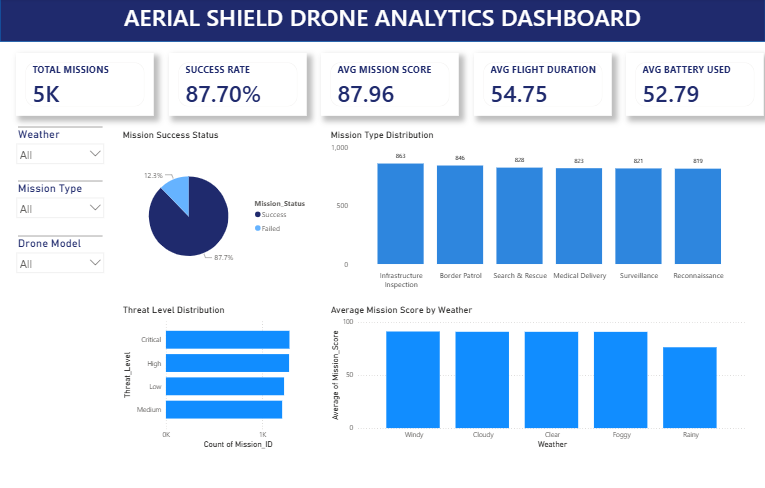

This screenshot's page, from the dashboard's own definition file:
{"tool":"powerbi","page":{"name":"Executive Dashboard","canvas":[1400,900],"ordinal":0},"visuals":[{"type":"pieChart","title":"Mission Success Status","fields":{"Category":["Aerial_Shield_Drone_Data.Mission_Status"],"Y":["CountNonNull(Aerial_Shield_Drone_Data.Mission_ID)"]},"box":[220,240,360,300],"z":0},{"type":"clusteredColumnChart","title":"Mission Type Distribution","fields":{"Category":["Aerial_Shield_Drone_Data.Mission_Type"],"Y":["CountNonNull(Aerial_Shield_Drone_Data.Mission_ID)"]},"box":[600,240,770,300],"z":1000},{"type":"clusteredBarChart","title":"Threat Level Distribution","fields":{"Category":["Aerial_Shield_Drone_Data.Threat_Level"],"Y":["CountNonNull(Aerial_Shield_Drone_Data.Mission_ID)"]},"box":[220,560,360,270],"z":2000},{"type":"clusteredColumnChart","title":"Average Mission Score by Weather","fields":{"Category":["Aerial_Shield_Drone_Data.Weather"],"Y":["Avg(Aerial_Shield_Drone_Data.Mission_Score)"]},"box":[600,560,770,270],"z":3000},{"type":"slicer","fields":{"Values":["Aerial_Shield_Drone_Data.Weather"]},"box":[20,230,180,80],"z":4000},{"type":"slicer","fields":{"Values":["Aerial_Shield_Drone_Data.Mission_Type"]},"box":[20,330,180,80],"z":5000},{"type":"slicer","fields":{"Values":["Aerial_Shield_Drone_Data.Drone_Model"]},"box":[20,430,180,80],"z":6000},{"type":"shape","box":[0,0,1400,80],"z":7000},{"type":"textbox","box":[0,0,1399.4,80.5],"z":8000},{"type":"cardVisual","fields":{"Data":["Count(Aerial_Shield_Drone_Data.Mission_ID)"]},"box":[30,100,252,115],"z":9000},{"type":"cardVisual","fields":{"Data":["Aerial_Shield_Drone_Data.Success Rate"]},"box":[308.8,100,252,115],"z":10000},{"type":"cardVisual","fields":{"Data":["Aerial_Shield_Drone_Data.Average Mission Score"]},"box":[587.5,100,252,115],"z":11000},{"type":"cardVisual","fields":{"Data":["Aerial_Shield_Drone_Data.Average Flight Duration"]},"box":[866.2,100,252,115],"z":12000},{"type":"cardVisual","fields":{"Data":["Aerial_Shield_Drone_Data.Average Battery Consumed"]},"box":[1145,100,252,115],"z":13000}]}

Visuals, with their boxes in screenshot pixels (x1, y1, x2, y2), scaled from the page's 1400x900 canvas onto the 765x488 screenshot:
"Mission Success Status" pieChart: [120, 130, 317, 293]
"Mission Type Distribution" clusteredColumnChart: [328, 130, 749, 293]
"Threat Level Distribution" clusteredBarChart: [120, 304, 317, 450]
"Average Mission Score by Weather" clusteredColumnChart: [328, 304, 749, 450]
slicer - Aerial_Shield_Drone_Data.Weather: [11, 125, 109, 168]
slicer - Aerial_Shield_Drone_Data.Mission_Type: [11, 179, 109, 222]
slicer - Aerial_Shield_Drone_Data.Drone_Model: [11, 233, 109, 277]
shape: [0, 0, 764, 43]
textbox: [0, 0, 764, 44]
cardVisual - Count(Aerial_Shield_Drone_Data.Mission_ID): [16, 54, 154, 117]
cardVisual - Aerial_Shield_Drone_Data.Success Rate: [169, 54, 306, 117]
cardVisual - Aerial_Shield_Drone_Data.Average Mission Score: [321, 54, 459, 117]
cardVisual - Aerial_Shield_Drone_Data.Average Flight Duration: [473, 54, 611, 117]
cardVisual - Aerial_Shield_Drone_Data.Average Battery Consumed: [626, 54, 763, 117]
